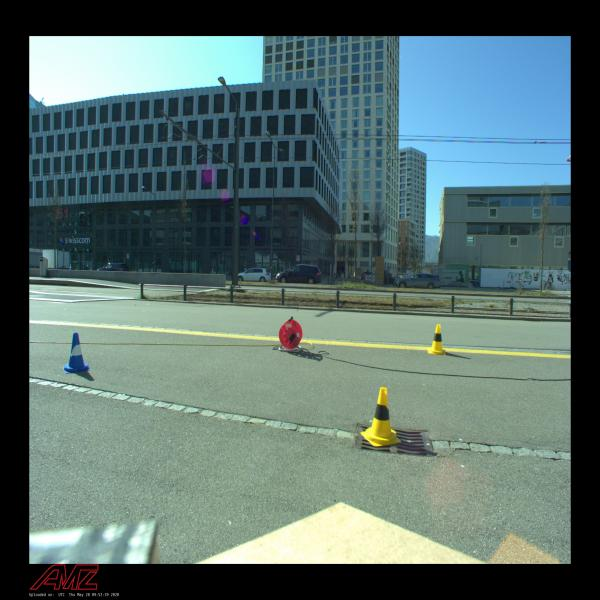blue_cone: (63, 333, 90, 373)
yellow_cone: (360, 387, 402, 447), (428, 324, 446, 355)
